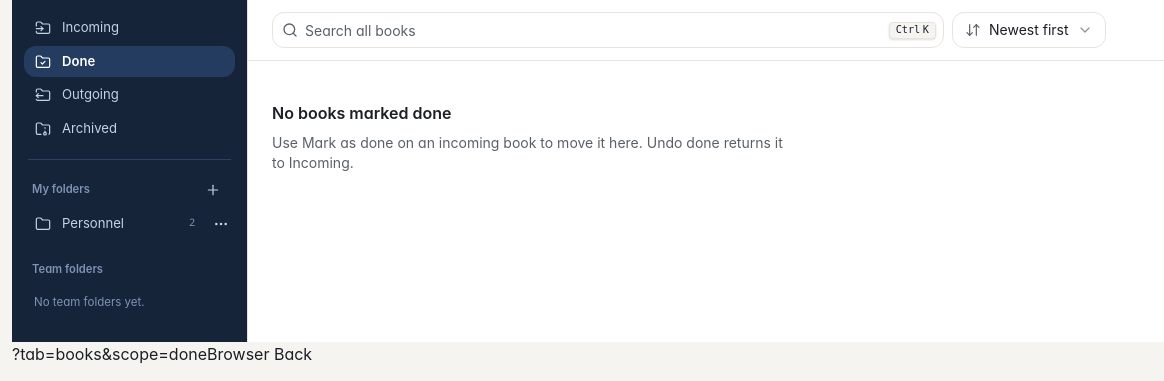
Scenario: Books routing desk › selects a folder without retaining the scope filter
Click the button "Personnel 2" at (114, 224), box [24,208,205,240]
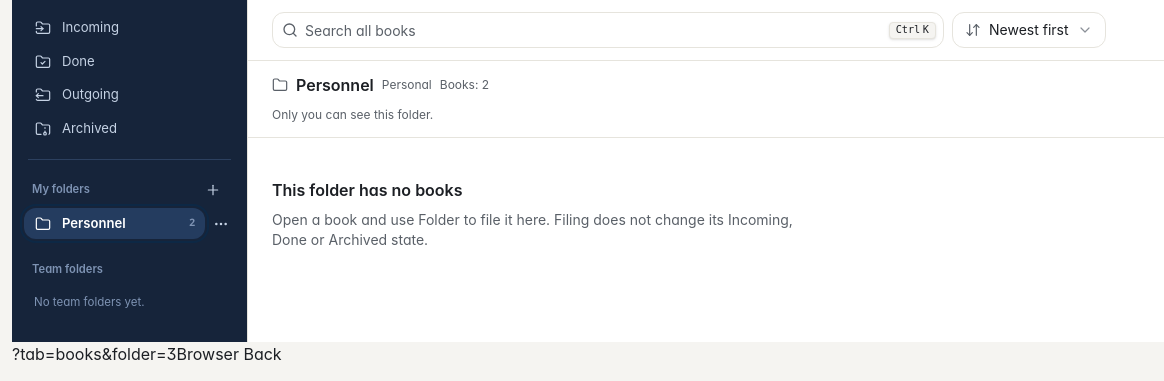
Now the text named "URL" shows "folder=3", box [12,344,176,364]
Now the text named "URL" no longer shows "scope=", box [12,344,176,364]
